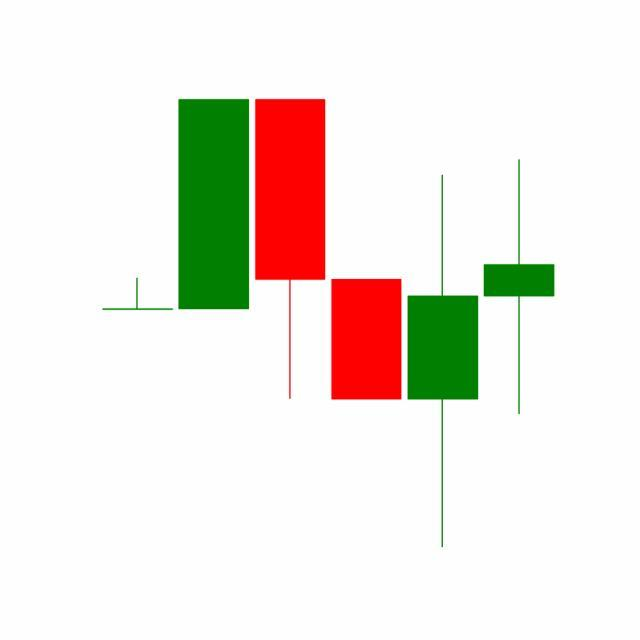Spinning Top: (404, 171, 482, 553)
